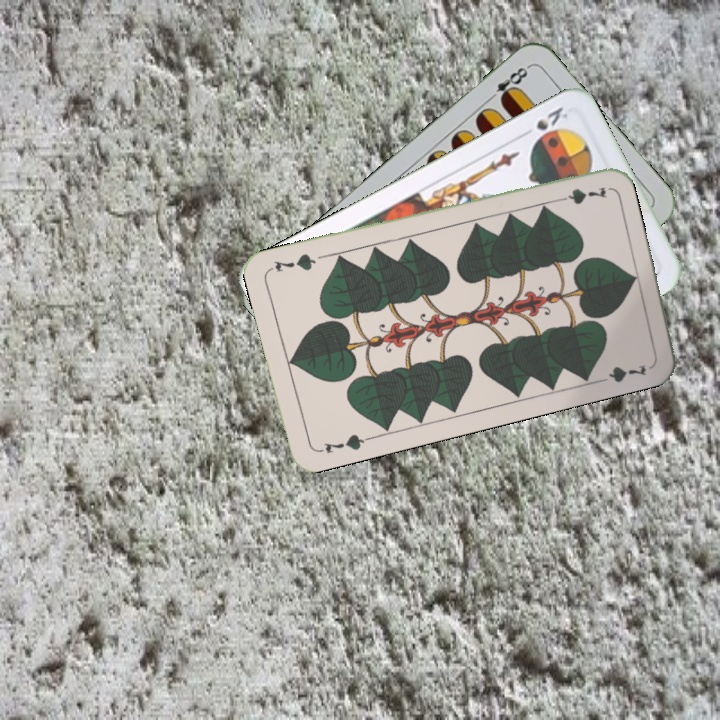E8: (483, 62, 532, 106)
G7: (313, 430, 372, 457), (549, 182, 609, 206)
SK: (517, 102, 571, 140)
